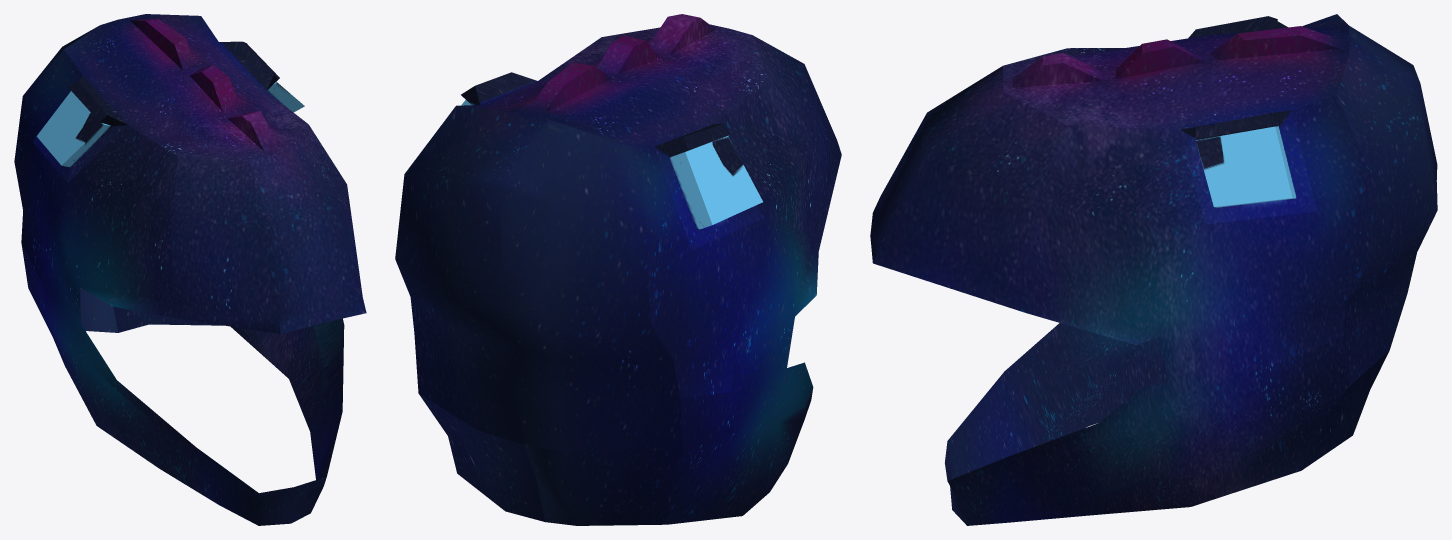
File: dinoHat.fbx
3 renders of one model, left to right at view 1: azimuth 30°, elevation 25°; view 2: azimuth 150°, elevation 25°; view 3: azimuth 270°, elevation 25°, orthographic. The views are drawn at different scales.
Parts seen in each view (by area): view 1: dinoHead; view 2: dinoHead; view 3: dinoHead.
Part boxes in pixels (<box>): dinoHead: <box>14,14,366,525</box>; dinoHead: <box>395,14,841,525</box>; dinoHead: <box>870,14,1437,525</box>.
Size of the model in its own units: 18.64 by 27.47 by 29.2.
Materials: 1 (1 with a texture image).
